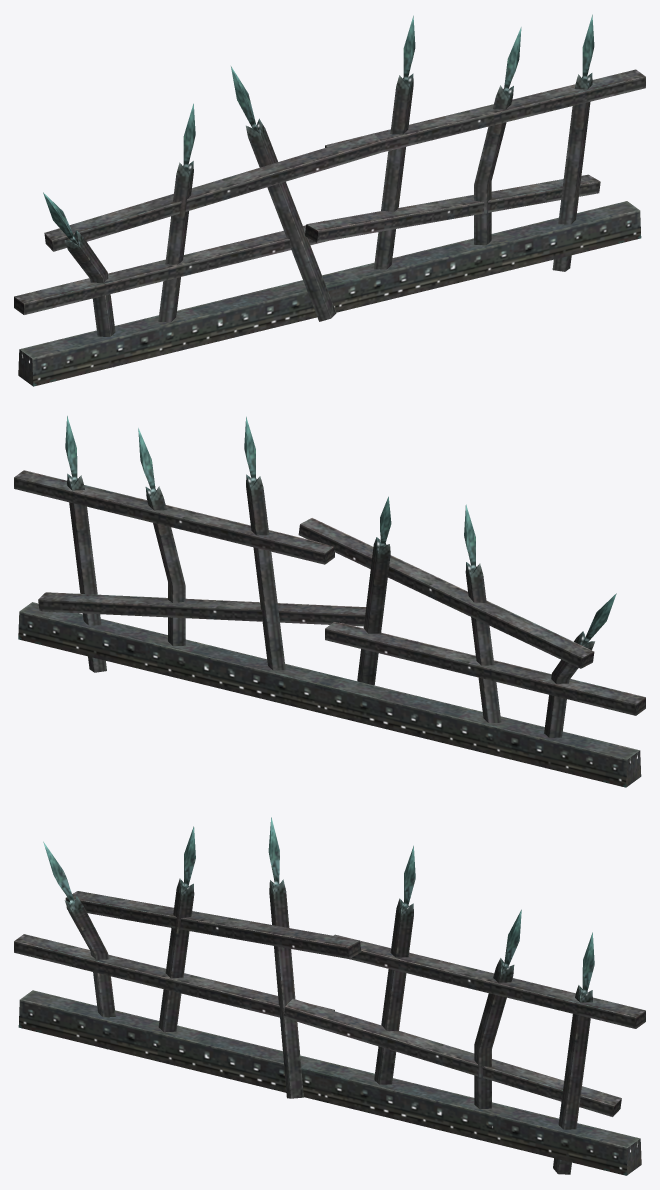
The model's file is 5st_wall_004.glb.
The picture shows the model from 3 angles, top to bottom: view 1: azimuth 30°, elevation 25°; view 2: azimuth 150°, elevation 25°; view 3: azimuth 330°, elevation 25°; orthographic projection.
Parts seen in each view (by area): view 1: 5st_wall_004; view 2: 5st_wall_004; view 3: 5st_wall_004.
Boxes of the visible parts, <box> form: 5st_wall_004: <box>14,14,645,386</box>; 5st_wall_004: <box>14,416,645,787</box>; 5st_wall_004: <box>14,817,645,1175</box>.
Size of the model in its own units: 24.68 by 11.04 by 2.76.
1 material, 1 textured.
